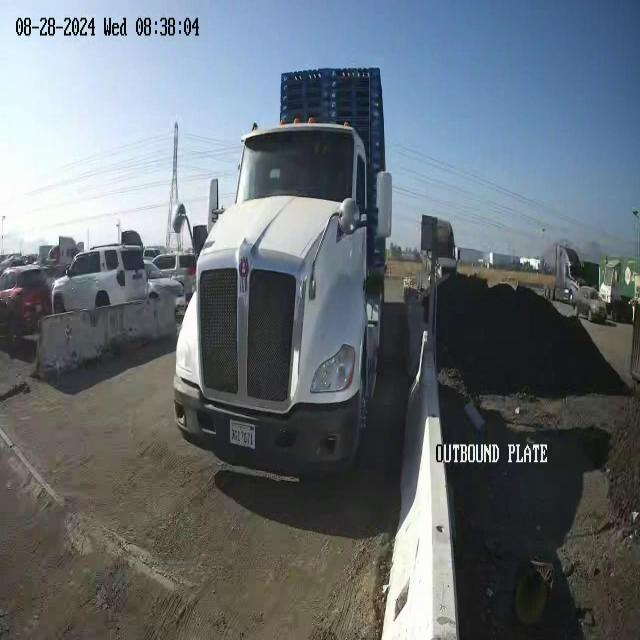TRUCK_OUT: (172, 66, 392, 483)
